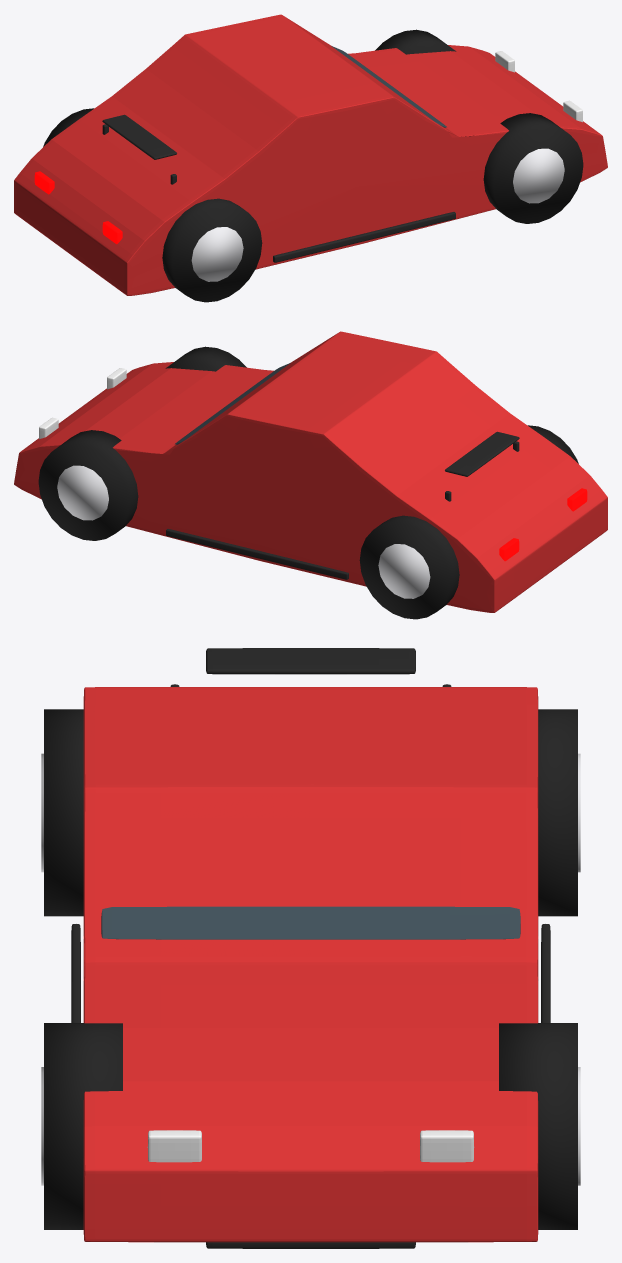
Rendered from car.fbx.
3 renders of one model, top to bottom at view 1: azimuth 30°, elevation 25°; view 2: azimuth 150°, elevation 25°; view 3: azimuth 270°, elevation 25°, orthographic. The views are drawn at different scales.
Visible parts, largest first — view 1: CarBody, Wheel_FR, Wheel_RR, Wheel_FL, Wheel_RL; view 2: CarBody, Wheel_FL, Wheel_RL, Wheel_FR, Wheel_RR; view 3: CarBody, Wheel_FL, Wheel_FR, Wheel_RL, Wheel_RR.
Boxes of the visible parts, x1,y1,x2,y2 form: CarBody: [14, 14, 607, 295]; Wheel_FR: [483, 113, 583, 223]; Wheel_RR: [162, 198, 262, 302]; Wheel_FL: [375, 29, 456, 54]; Wheel_RL: [43, 108, 93, 146]; CarBody: [14, 331, 607, 612]; Wheel_FL: [38, 430, 138, 540]; Wheel_RL: [359, 515, 459, 619]; Wheel_FR: [165, 346, 246, 371]; Wheel_RR: [528, 425, 578, 463]; CarBody: [71, 648, 550, 1248]; Wheel_FL: [499, 1023, 580, 1229]; Wheel_FR: [41, 1023, 122, 1229]; Wheel_RL: [538, 709, 580, 916]; Wheel_RR: [41, 709, 83, 916].
Size of the model in its own units: 450 by 138 by 218.
